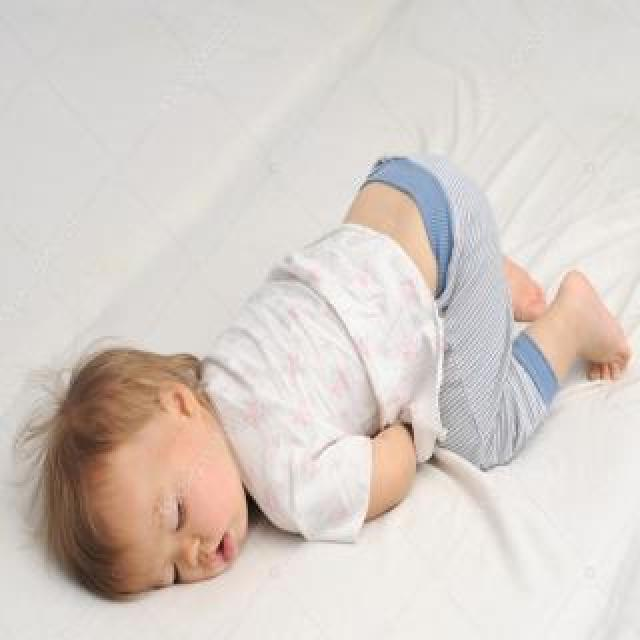baby: (53, 157, 629, 595)
